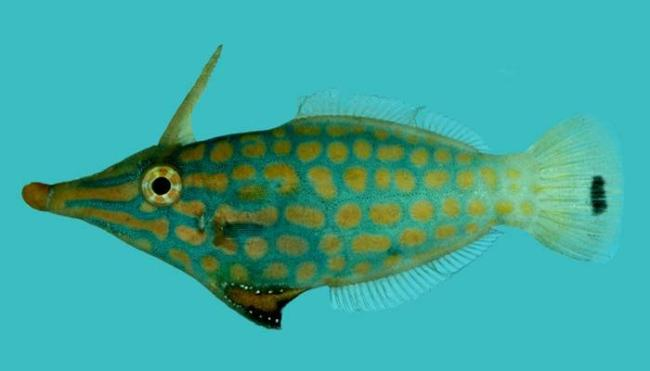fish: (22, 44, 622, 330)
